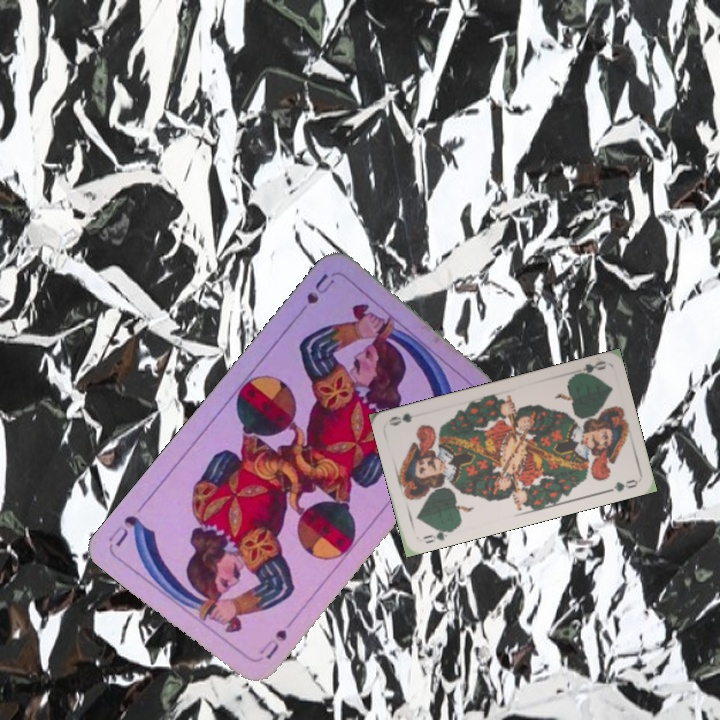GO: (568, 356, 608, 380), (419, 525, 456, 546)
SU: (291, 269, 338, 319), (252, 625, 290, 663)
